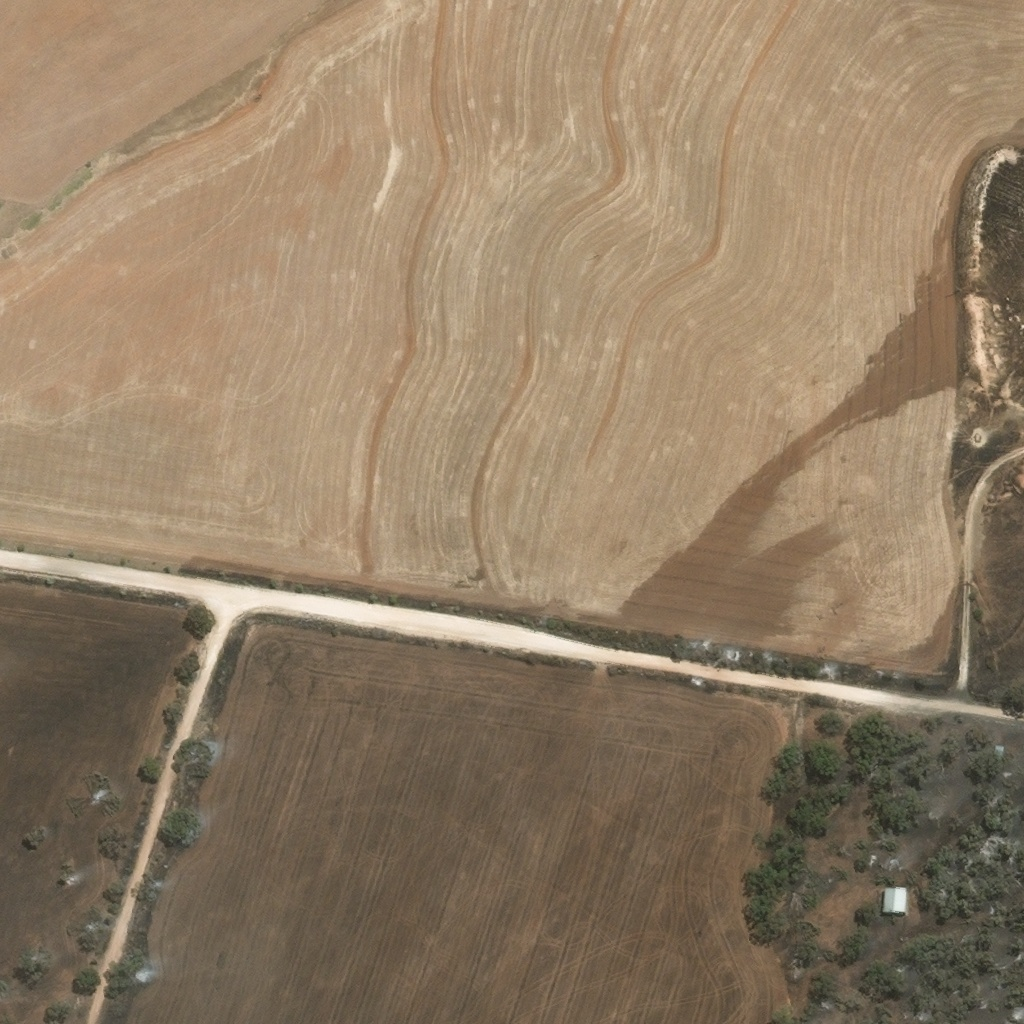0 no-damage: (882, 884, 908, 914), (990, 744, 1004, 759)
